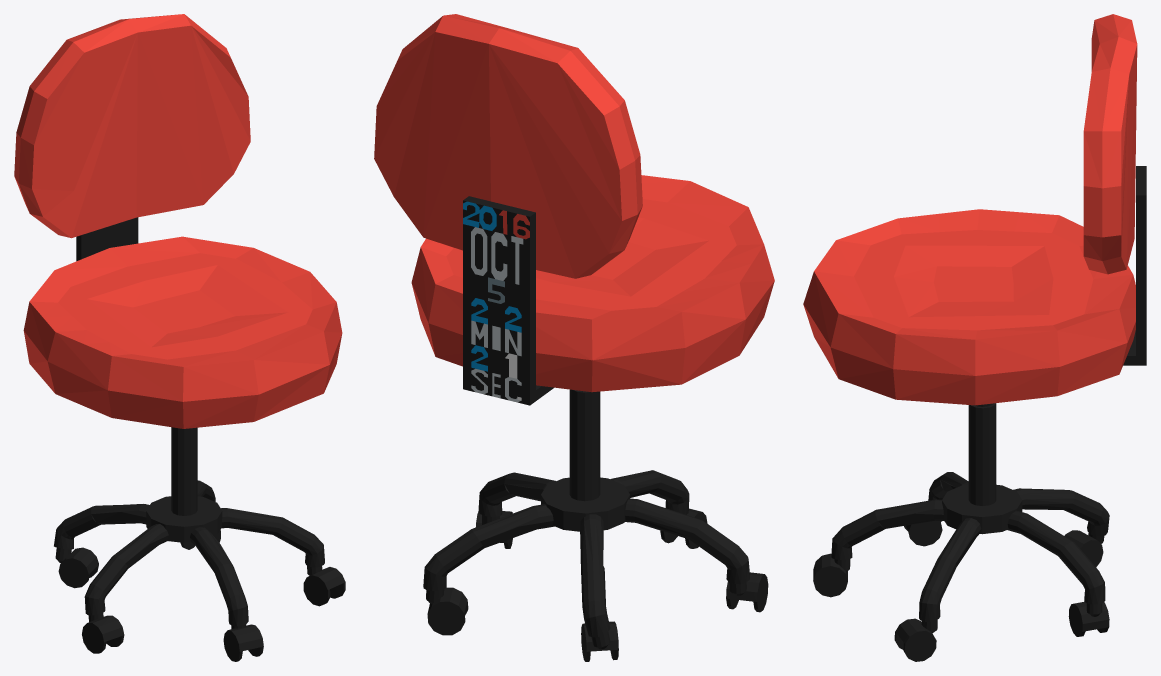
Rendered from Chair.fbx.
3 views of the same model, side by side, from view 1: azimuth 30°, elevation 25°; view 2: azimuth 150°, elevation 25°; view 3: azimuth 270°, elevation 25° (orthographic). The views are drawn at different scales.
Visible parts, largest first — view 1: mesh_106363228, mesh_686760456, mesh_995354437, mesh_1895313686, mesh_1971486500, mesh_36039303, mesh_1454687562, mesh_1662945528, mesh_939557627, mesh_864579469, mesh_743509236, group_2044540303 (+5 smaller); view 2: mesh_686760456, mesh_106363228, mesh_1971486500, mesh_995354437, mesh_1895313686, mesh_2123282755, mesh_36039303, mesh_1057041509, mesh_864579469, mesh_13933989, group_1817378991, mesh_743509236 (+5 smaller); view 3: mesh_106363228, mesh_686760456, mesh_995354437, mesh_1895313686, mesh_1971486500, mesh_13933989, mesh_1662945528, mesh_1066776563, mesh_2123282755, mesh_1454687562, mesh_743509236, mesh_1057041509 (+5 smaller).
Boxes of the visible parts, x1,y1,x2,y2 form: mesh_106363228: (23,236,342,428); mesh_686760456: (14,14,250,238); mesh_995354437: (171,427,197,515); mesh_1895313686: (146,496,222,542); mesh_1971486500: (76,217,138,261); mesh_36039303: (84,556,128,615); mesh_1454687562: (214,564,248,626); mesh_1662945528: (273,517,324,567); mesh_939557627: (221,508,282,534); mesh_864579469: (113,524,168,568); mesh_743509236: (91,504,149,524); group_2044540303: (58,549,97,588); mesh_686760456: (374,14,642,278); mesh_106363228: (411,175,774,392); mesh_1971486500: (463,196,535,405); mesh_995354437: (569,389,600,501); mesh_1895313686: (541,477,630,531); mesh_2123282755: (471,504,554,547); mesh_36039303: (689,520,749,584); mesh_1057041509: (581,562,610,637); mesh_864579469: (625,498,702,539); mesh_13933989: (423,529,484,590); group_1817378991: (427,589,467,635); mesh_743509236: (580,514,603,568); mesh_106363228: (803,209,1135,405); mesh_686760456: (1083,14,1137,274); mesh_995354437: (968,403,996,505); mesh_1895313686: (942,484,1022,534); mesh_1971486500: (1136,166,1146,365); mesh_13933989: (1058,542,1105,604); mesh_1662945528: (919,556,956,621); mesh_1066776563: (875,499,943,528); mesh_2123282755: (1007,511,1073,555); mesh_1454687562: (831,510,885,559); mesh_743509236: (1013,488,1074,509); mesh_1057041509: (1064,491,1109,536).
Bounding box in the file's own units: 121 × 233 × 128.
